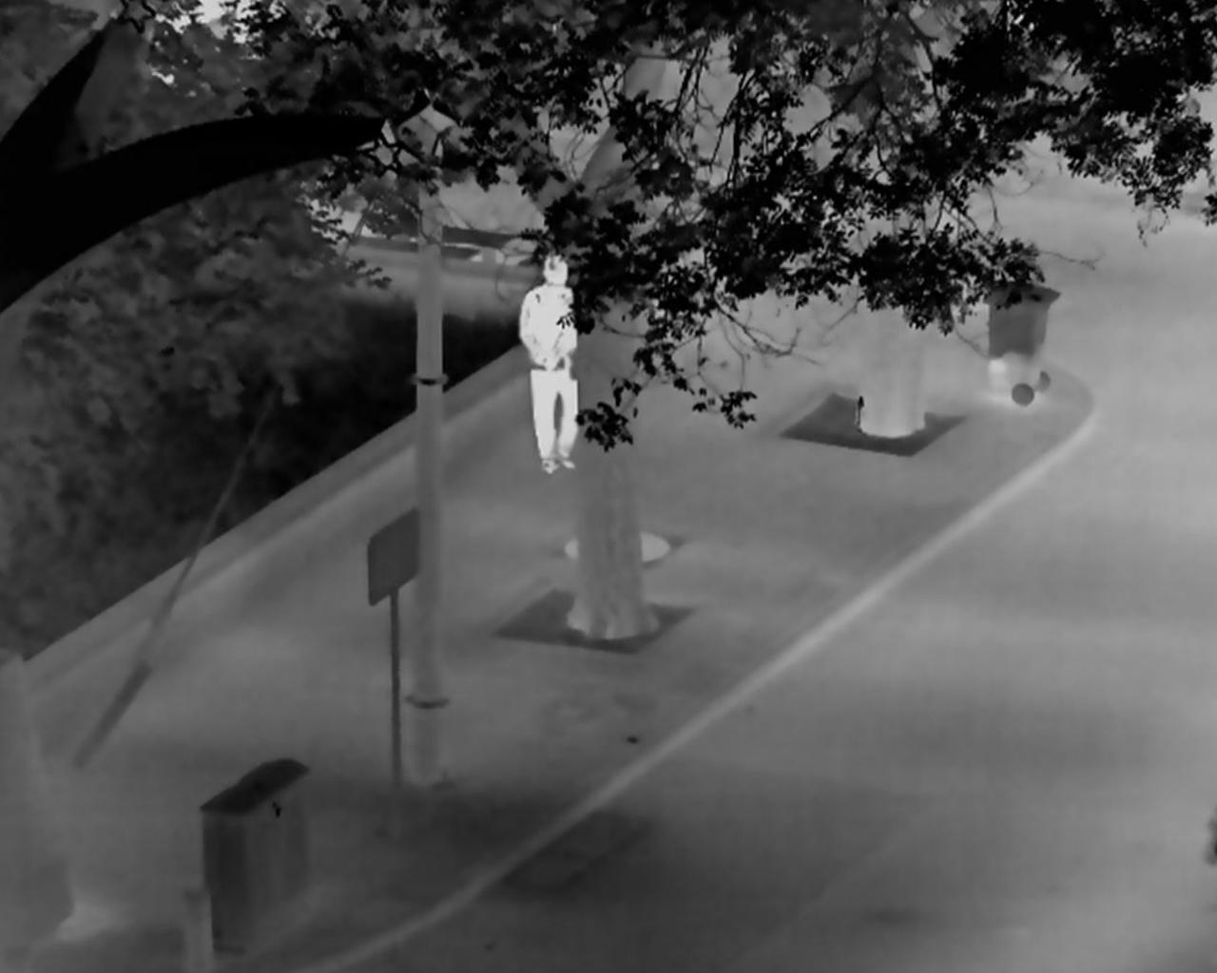person: (518, 251, 578, 473)
